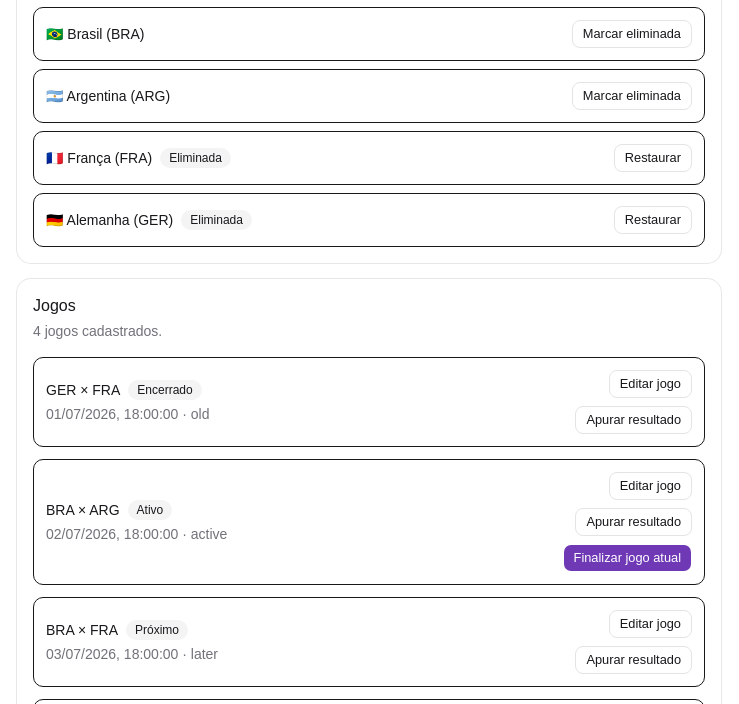
Scenario: AdminMatchesPage › keeps edit values and shows API errors
(page scrolled)
Click the button "Editar jogo" in the row of "Encerrado" at (650, 384), box [609,370,692,398]
(page scrolled)
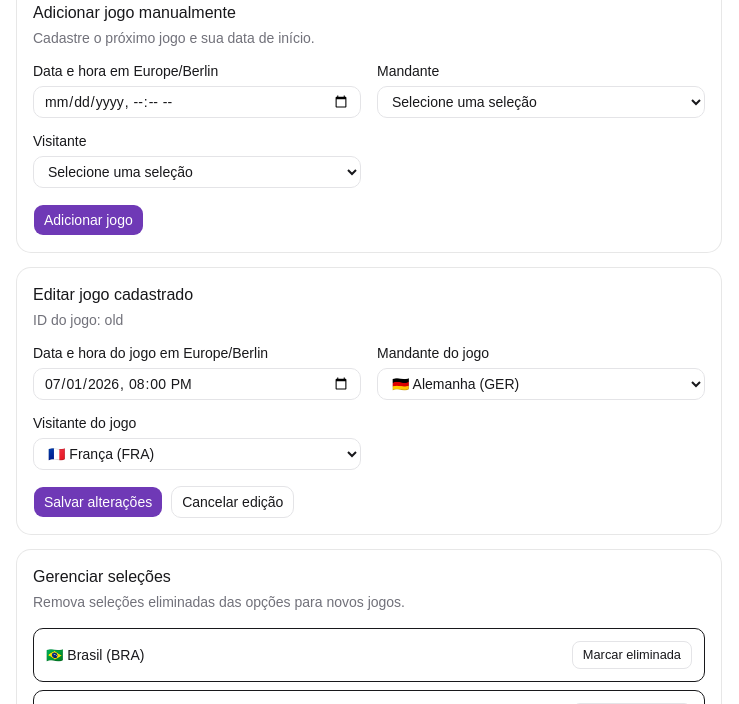
Select "🇦🇷 Argentina (ARG)" in the dropdown labelled "Mandante do jogo" at (541, 384), box [377,368,705,400]
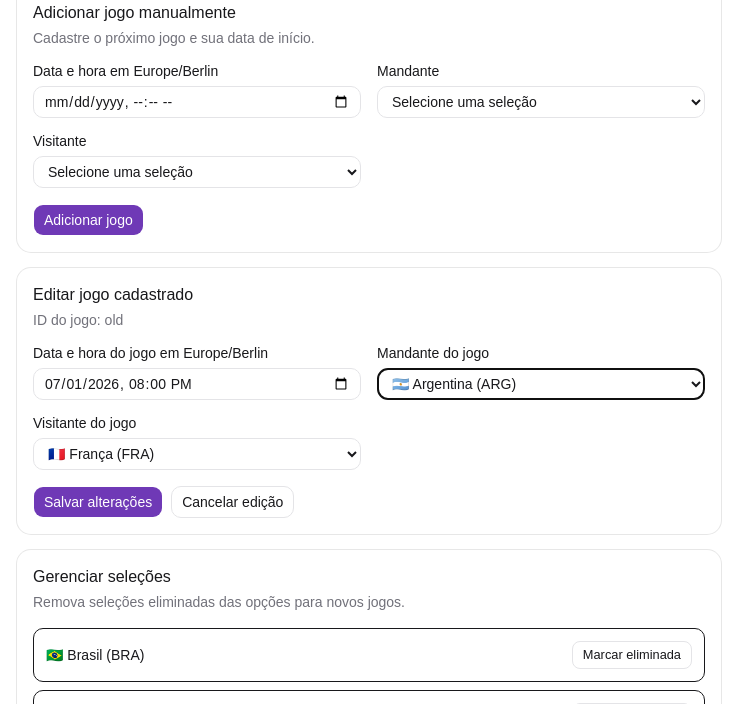
Click the button "Salvar alterações" at (98, 502), box [33,486,163,518]
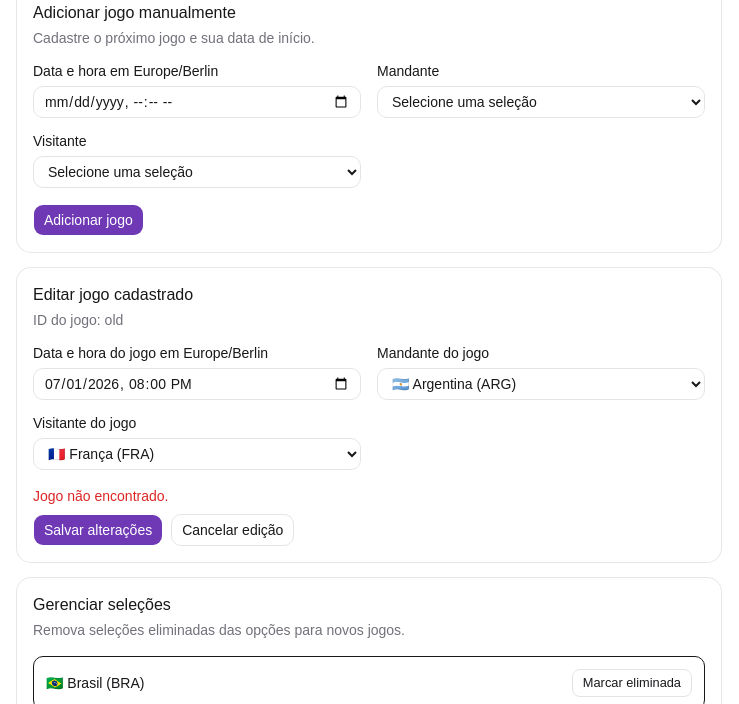
Result: the message reads "Jogo não encontrado." at [33,488,168,504]
